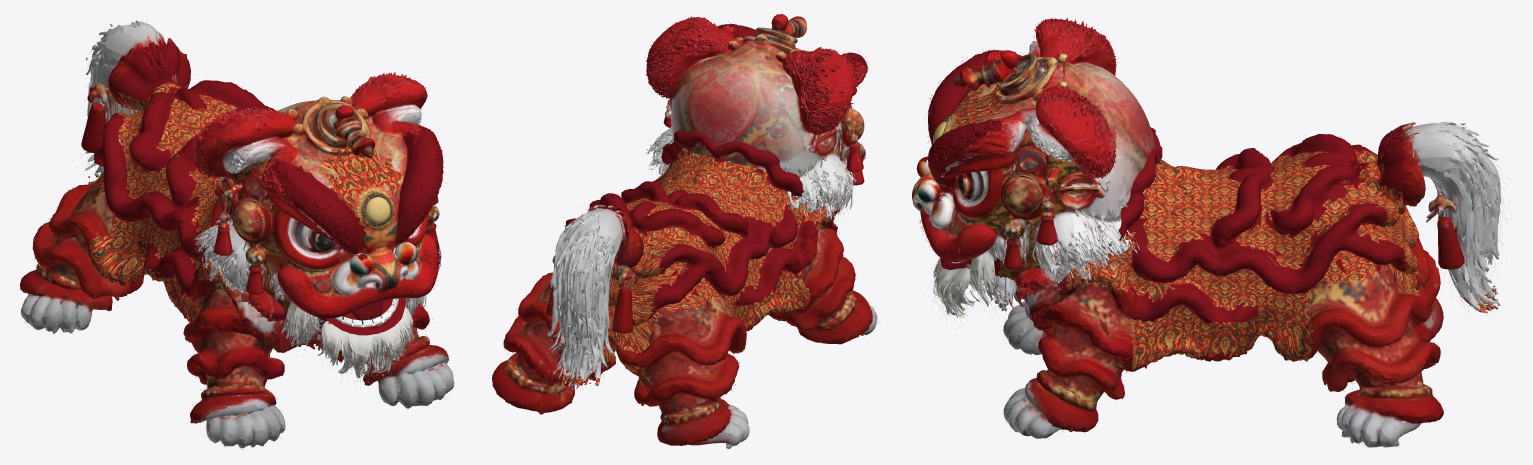
File: lion-structure-optimized.glb
3 renders of one model, left to right at view 1: azimuth 30°, elevation 25°; view 2: azimuth 150°, elevation 25°; view 3: azimuth 270°, elevation 25°, orthographic. The views are drawn at different scales.
Visible parts, largest first — view 1: Lion_Nose, Lion_Body_Red_Trim, Lion_Foreleg_R, Lion_Hindleg_R, Lion_Body, Lion_Ear_R, Lion_Tail, Lion_Brow_L, Lion_Brow_R, Lion_Beard, Lion_Crown, Lion_Foreleg_L (+7 smaller); view 2: Lion_Body_Red_Trim, Lion_Nose, Lion_Body, Lion_Tail, Lion_Hindleg_R, Lion_Foreleg_R, Lion_Hindleg_L, Lion_Ear_R, Lion_Ear_L, Lion_Crown, Lion_Hindpaw_R, Lion_Hindpaw_L (+2 smaller); view 3: Lion_Body_Red_Trim, Lion_Nose, Lion_Body, Lion_Hindleg_L, Lion_Tail, Lion_Foreleg_L, Lion_Ear_L, Lion_Crown, Lion_Brow_L, Lion_Forepaw_L, Lion_Hindpaw_L, Lion_Brow_R (+4 smaller).
Boxes of the visible parts, x1,y1,x2,y2 form: Lion_Nose: (193, 75, 443, 338); Lion_Body_Red_Trim: (94, 38, 274, 301); Lion_Foreleg_R: (183, 274, 300, 425); Lion_Hindleg_R: (20, 181, 137, 312); Lion_Body: (88, 42, 370, 376); Lion_Ear_R: (193, 108, 293, 209); Lion_Tail: (81, 20, 190, 183); Lion_Brow_L: (390, 126, 443, 249); Lion_Brow_R: (269, 159, 369, 260); Lion_Beard: (286, 303, 425, 377); Lion_Crown: (289, 96, 374, 158); Lion_Foreleg_L: (366, 303, 448, 383); Lion_Body_Red_Trim: (565, 130, 818, 313); Lion_Nose: (646, 17, 867, 219); Lion_Body: (552, 150, 833, 405); Lion_Tail: (545, 204, 665, 382); Lion_Hindleg_R: (639, 292, 746, 438); Lion_Foreleg_R: (774, 214, 872, 330); Lion_Hindleg_L: (492, 272, 565, 396); Lion_Ear_R: (779, 48, 857, 135); Lion_Ear_L: (646, 16, 732, 105); Lion_Crown: (729, 14, 806, 64); Lion_Hindpaw_R: (657, 409, 749, 448); Lion_Hindpaw_L: (492, 384, 574, 414); Lion_Body_Red_Trim: (1118, 125, 1407, 324); Lion_Nose: (912, 24, 1155, 303); Lion_Body: (1006, 128, 1500, 371); Lion_Hindleg_L: (1306, 263, 1441, 425); Lion_Tail: (1399, 122, 1500, 323); Lion_Foreleg_L: (995, 275, 1135, 421); Lion_Ear_L: (1002, 94, 1122, 184); Lion_Crown: (952, 50, 1071, 101); Lion_Brow_L: (920, 119, 1001, 185); Lion_Forepaw_L: (1003, 390, 1098, 438); Lion_Hindpaw_L: (1337, 404, 1443, 447); Lion_Brow_R: (921, 49, 1001, 162).
Bounding box in the file's own units: 0.9376 × 1.01 × 1.65.
Materials: 16 (5 with a texture image).
